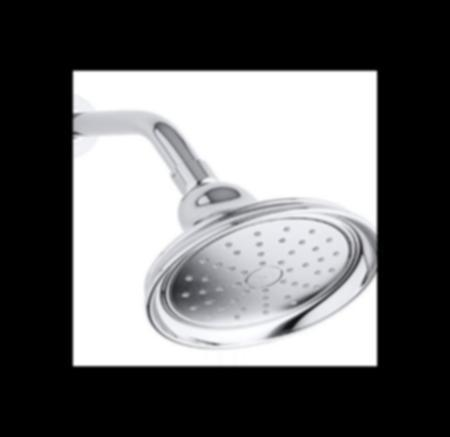Ducha: (73, 99, 377, 360)
